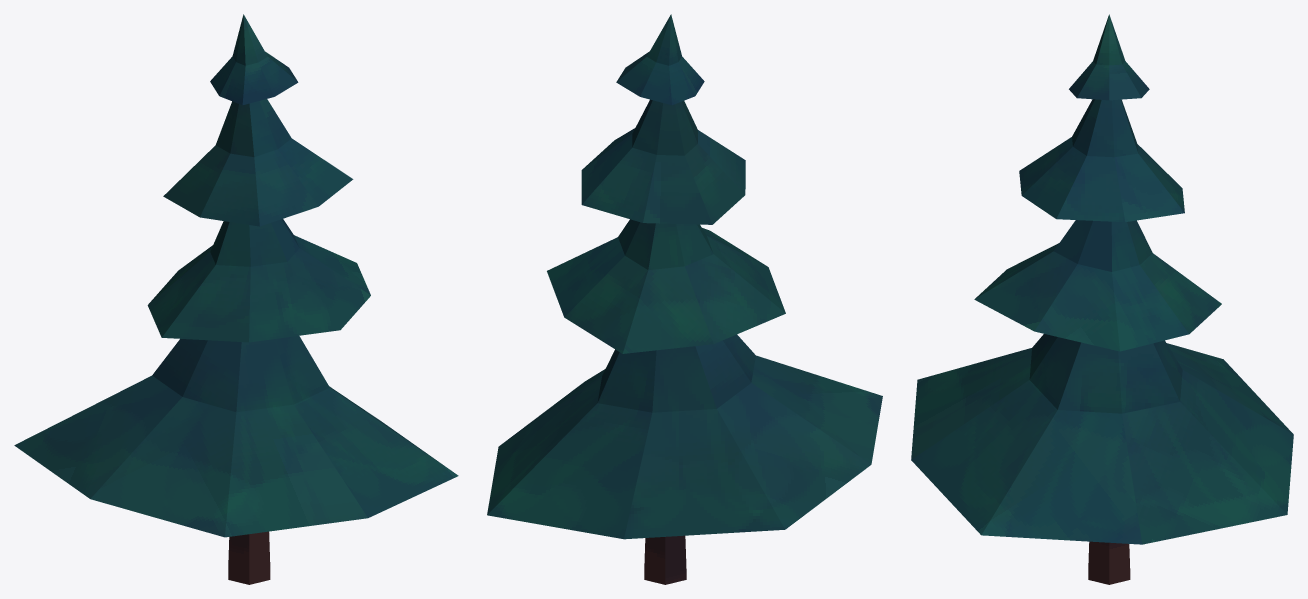
The model's file is Tree4.gltf.
3 views of the same model, side by side, from view 1: azimuth 30°, elevation 25°; view 2: azimuth 150°, elevation 25°; view 3: azimuth 270°, elevation 25° (orthographic).
Visible parts, largest first — view 1: pyramid (×4), cylinder; view 2: pyramid (×4), cylinder; view 3: pyramid (×4), cylinder.
Boxes of the visible parts, x1,y1,x2,y2 form: pyramid (×4): [14, 14, 458, 537]; cylinder: [228, 531, 270, 584]; pyramid (×4): [487, 14, 882, 539]; cylinder: [644, 535, 686, 584]; pyramid (×4): [911, 14, 1293, 544]; cylinder: [1088, 541, 1130, 584].
Bounding box in the file's own units: 1.71 × 2.75 × 1.71.
1 material, 1 textured.
